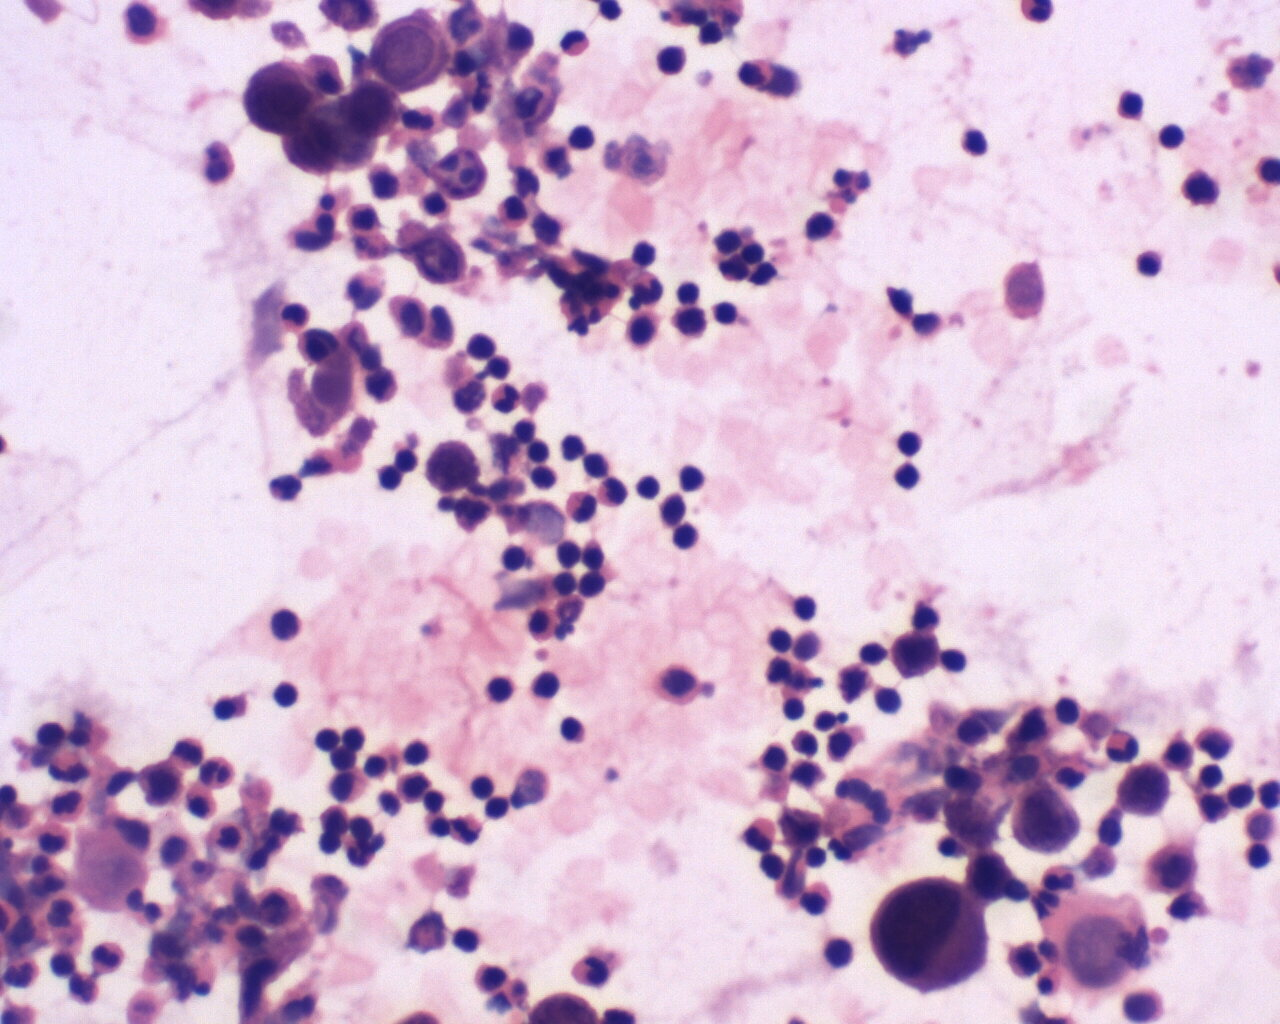ab: (869, 875, 990, 997), (368, 9, 450, 95), (1008, 779, 1084, 859), (242, 57, 317, 135), (1117, 762, 1172, 817), (424, 439, 479, 494), (894, 623, 942, 683)
lymph: (450, 921, 489, 958), (496, 536, 531, 577), (562, 117, 599, 154), (267, 677, 306, 712), (1235, 843, 1276, 875), (1050, 691, 1086, 724), (709, 295, 743, 329), (1149, 121, 1186, 153), (485, 674, 517, 705), (893, 458, 921, 494), (678, 463, 708, 494), (561, 716, 589, 744)
meso: (1140, 835, 1207, 900)
neutro: (43, 783, 89, 823), (569, 954, 613, 988), (199, 757, 237, 792), (449, 811, 484, 847), (802, 879, 836, 915), (90, 936, 123, 973), (269, 471, 305, 505), (489, 383, 523, 416), (596, 478, 629, 509)
